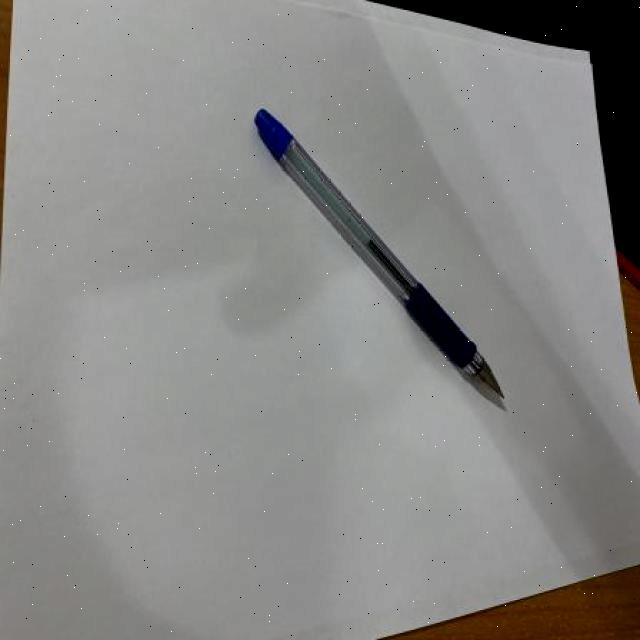pen: (253, 105, 507, 402)
